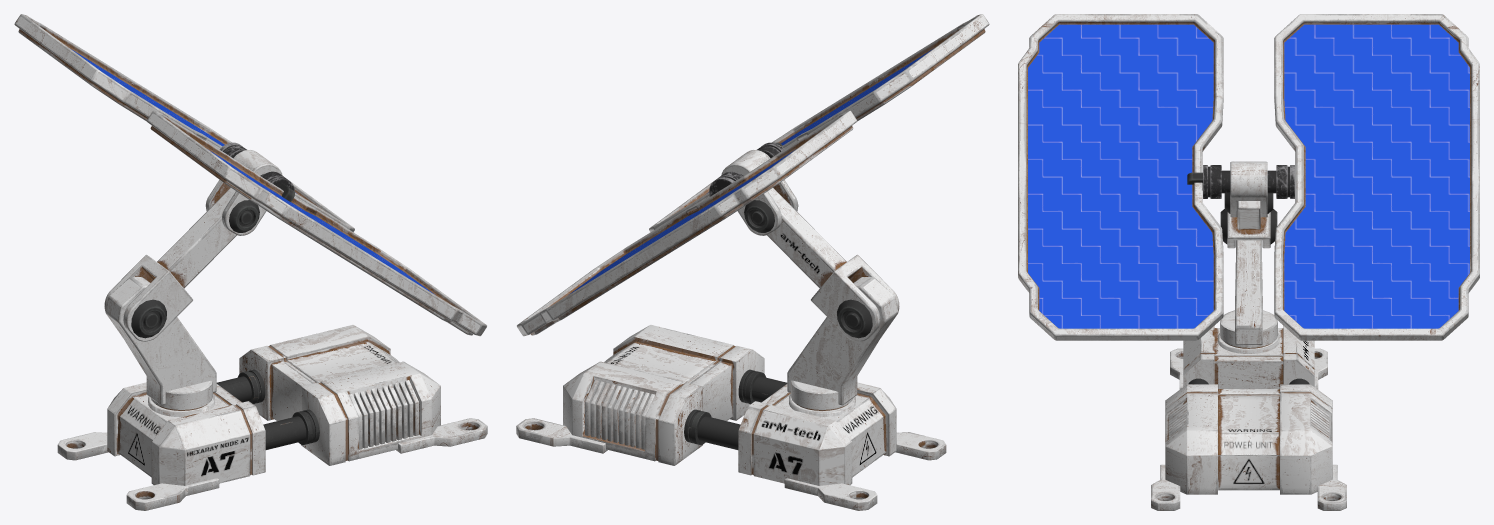
File: rfs_solar_v3.dae
3 renders of one model, left to right at view 1: azimuth 30°, elevation 25°; view 2: azimuth 150°, elevation 25°; view 3: azimuth 270°, elevation 25°, orthographic. The views are drawn at different scales.
Parts seen in each view (by area): view 1: rfs_solar_v3; view 2: rfs_solar_v3; view 3: rfs_solar_v3.
Boxes of the visible parts, bbox=[...] form: rfs_solar_v3: bbox=[14, 14, 487, 510]; rfs_solar_v3: bbox=[516, 14, 989, 510]; rfs_solar_v3: bbox=[1018, 14, 1479, 510].
Bounding box in the file's own units: 3.96 × 5 × 4.25.
Materials: 7 (7 with a texture image).
